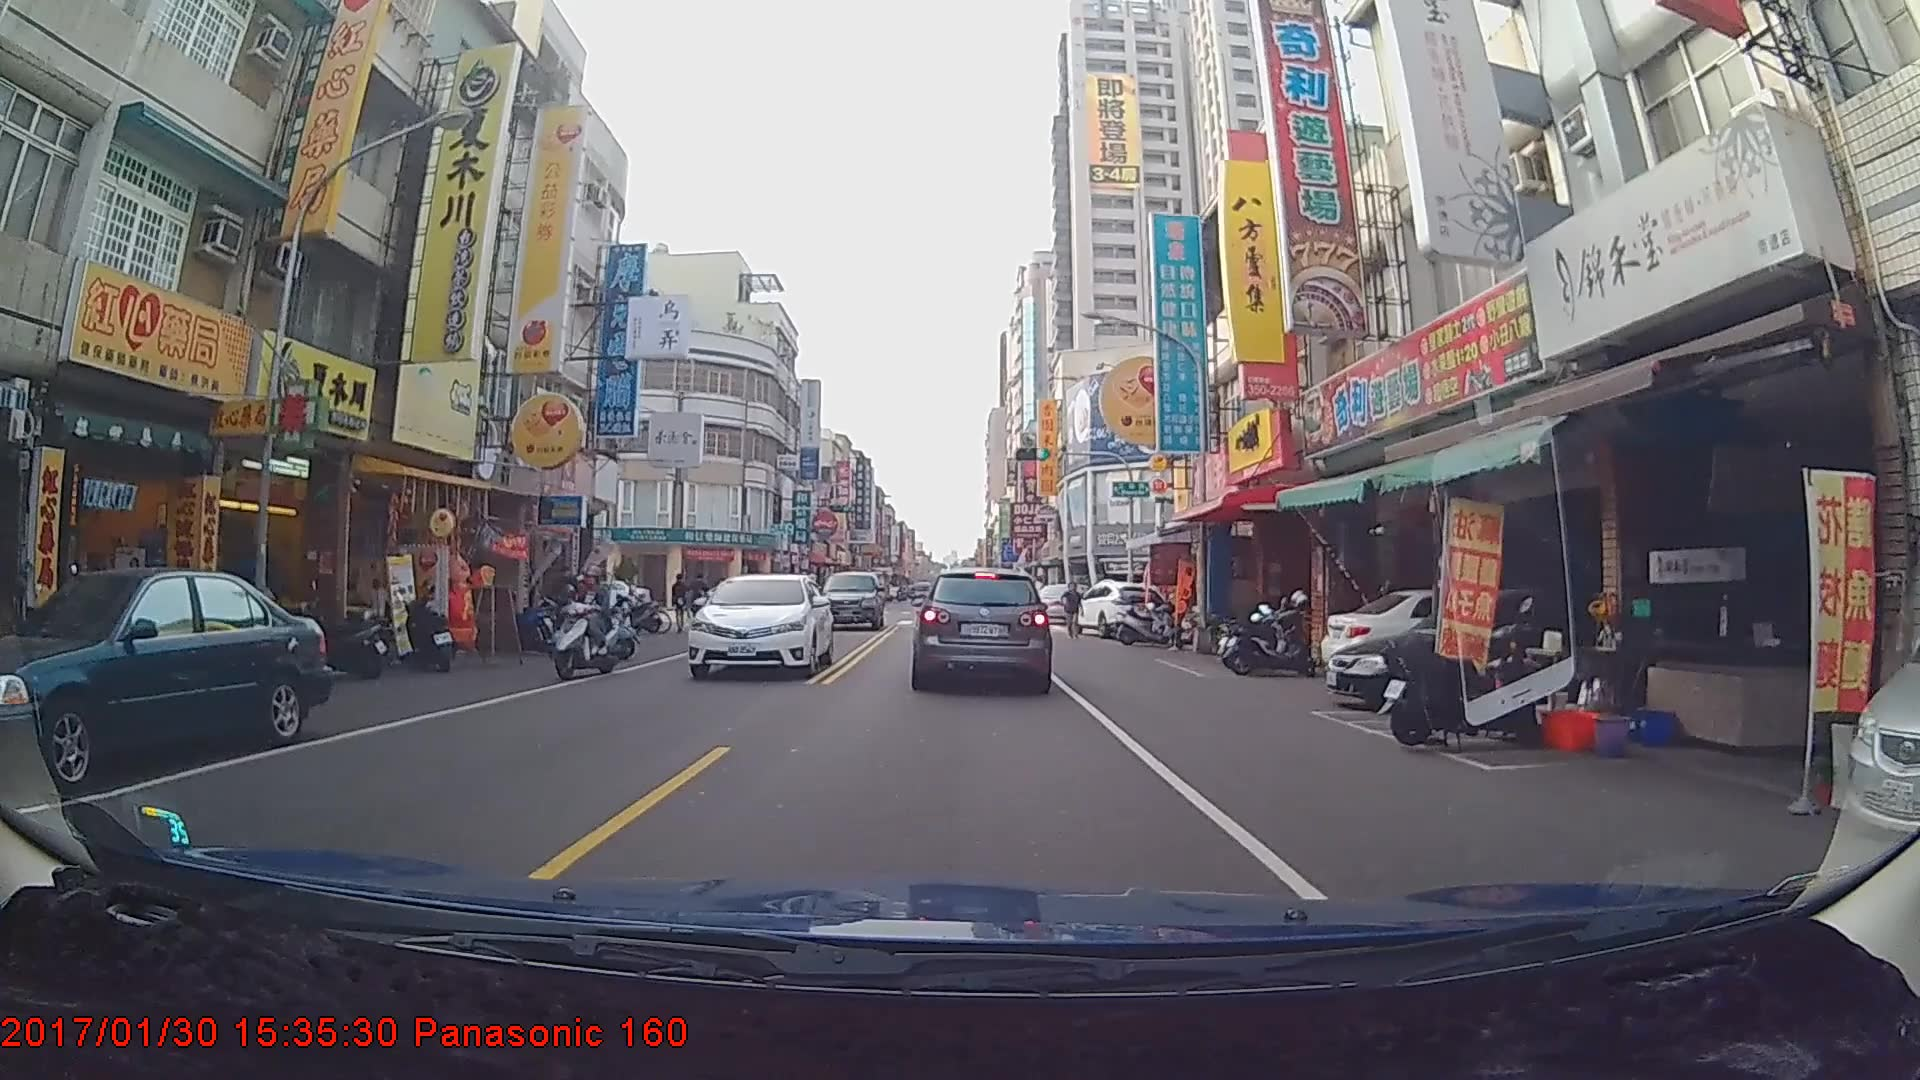pedestrian: (1063, 583, 1084, 642)
rider: (550, 563, 630, 686)
vehicle: (0, 567, 328, 777), (915, 565, 1051, 690), (686, 571, 835, 678), (1070, 579, 1170, 639), (815, 570, 886, 632)
